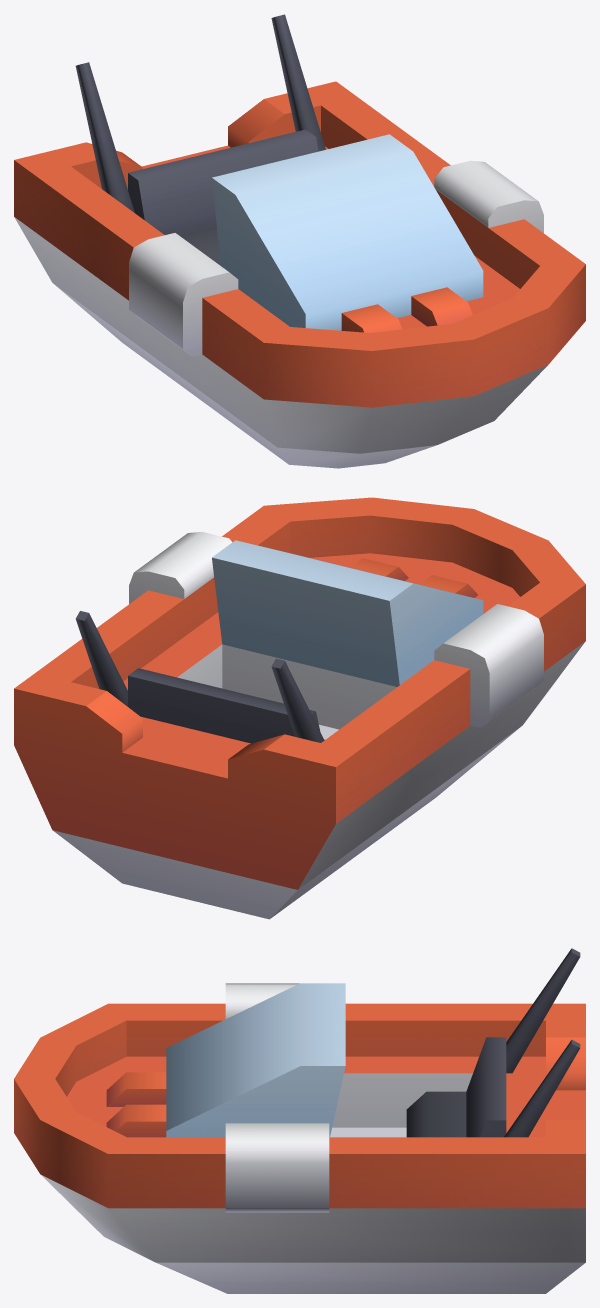
The model's file is boat-speed-e-transformed-transformed.glb.
3 views of the same model, one above another, from view 1: azimuth 30°, elevation 25°; view 2: azimuth 150°, elevation 25°; view 3: azimuth 270°, elevation 25° (orthographic). The views are drawn at different scales.
Visible parts, largest first — view 1: boat-speed-e; view 2: boat-speed-e; view 3: boat-speed-e.
Part boxes in pixels (box(x1,y1,x2,y2)): boat-speed-e: box(14, 14, 585, 468); boat-speed-e: box(14, 497, 585, 919); boat-speed-e: box(14, 948, 585, 1293).
Size of the model in its own units: 2 by 1.46 by 2.87.
Materials: 1 (1 with a texture image).
